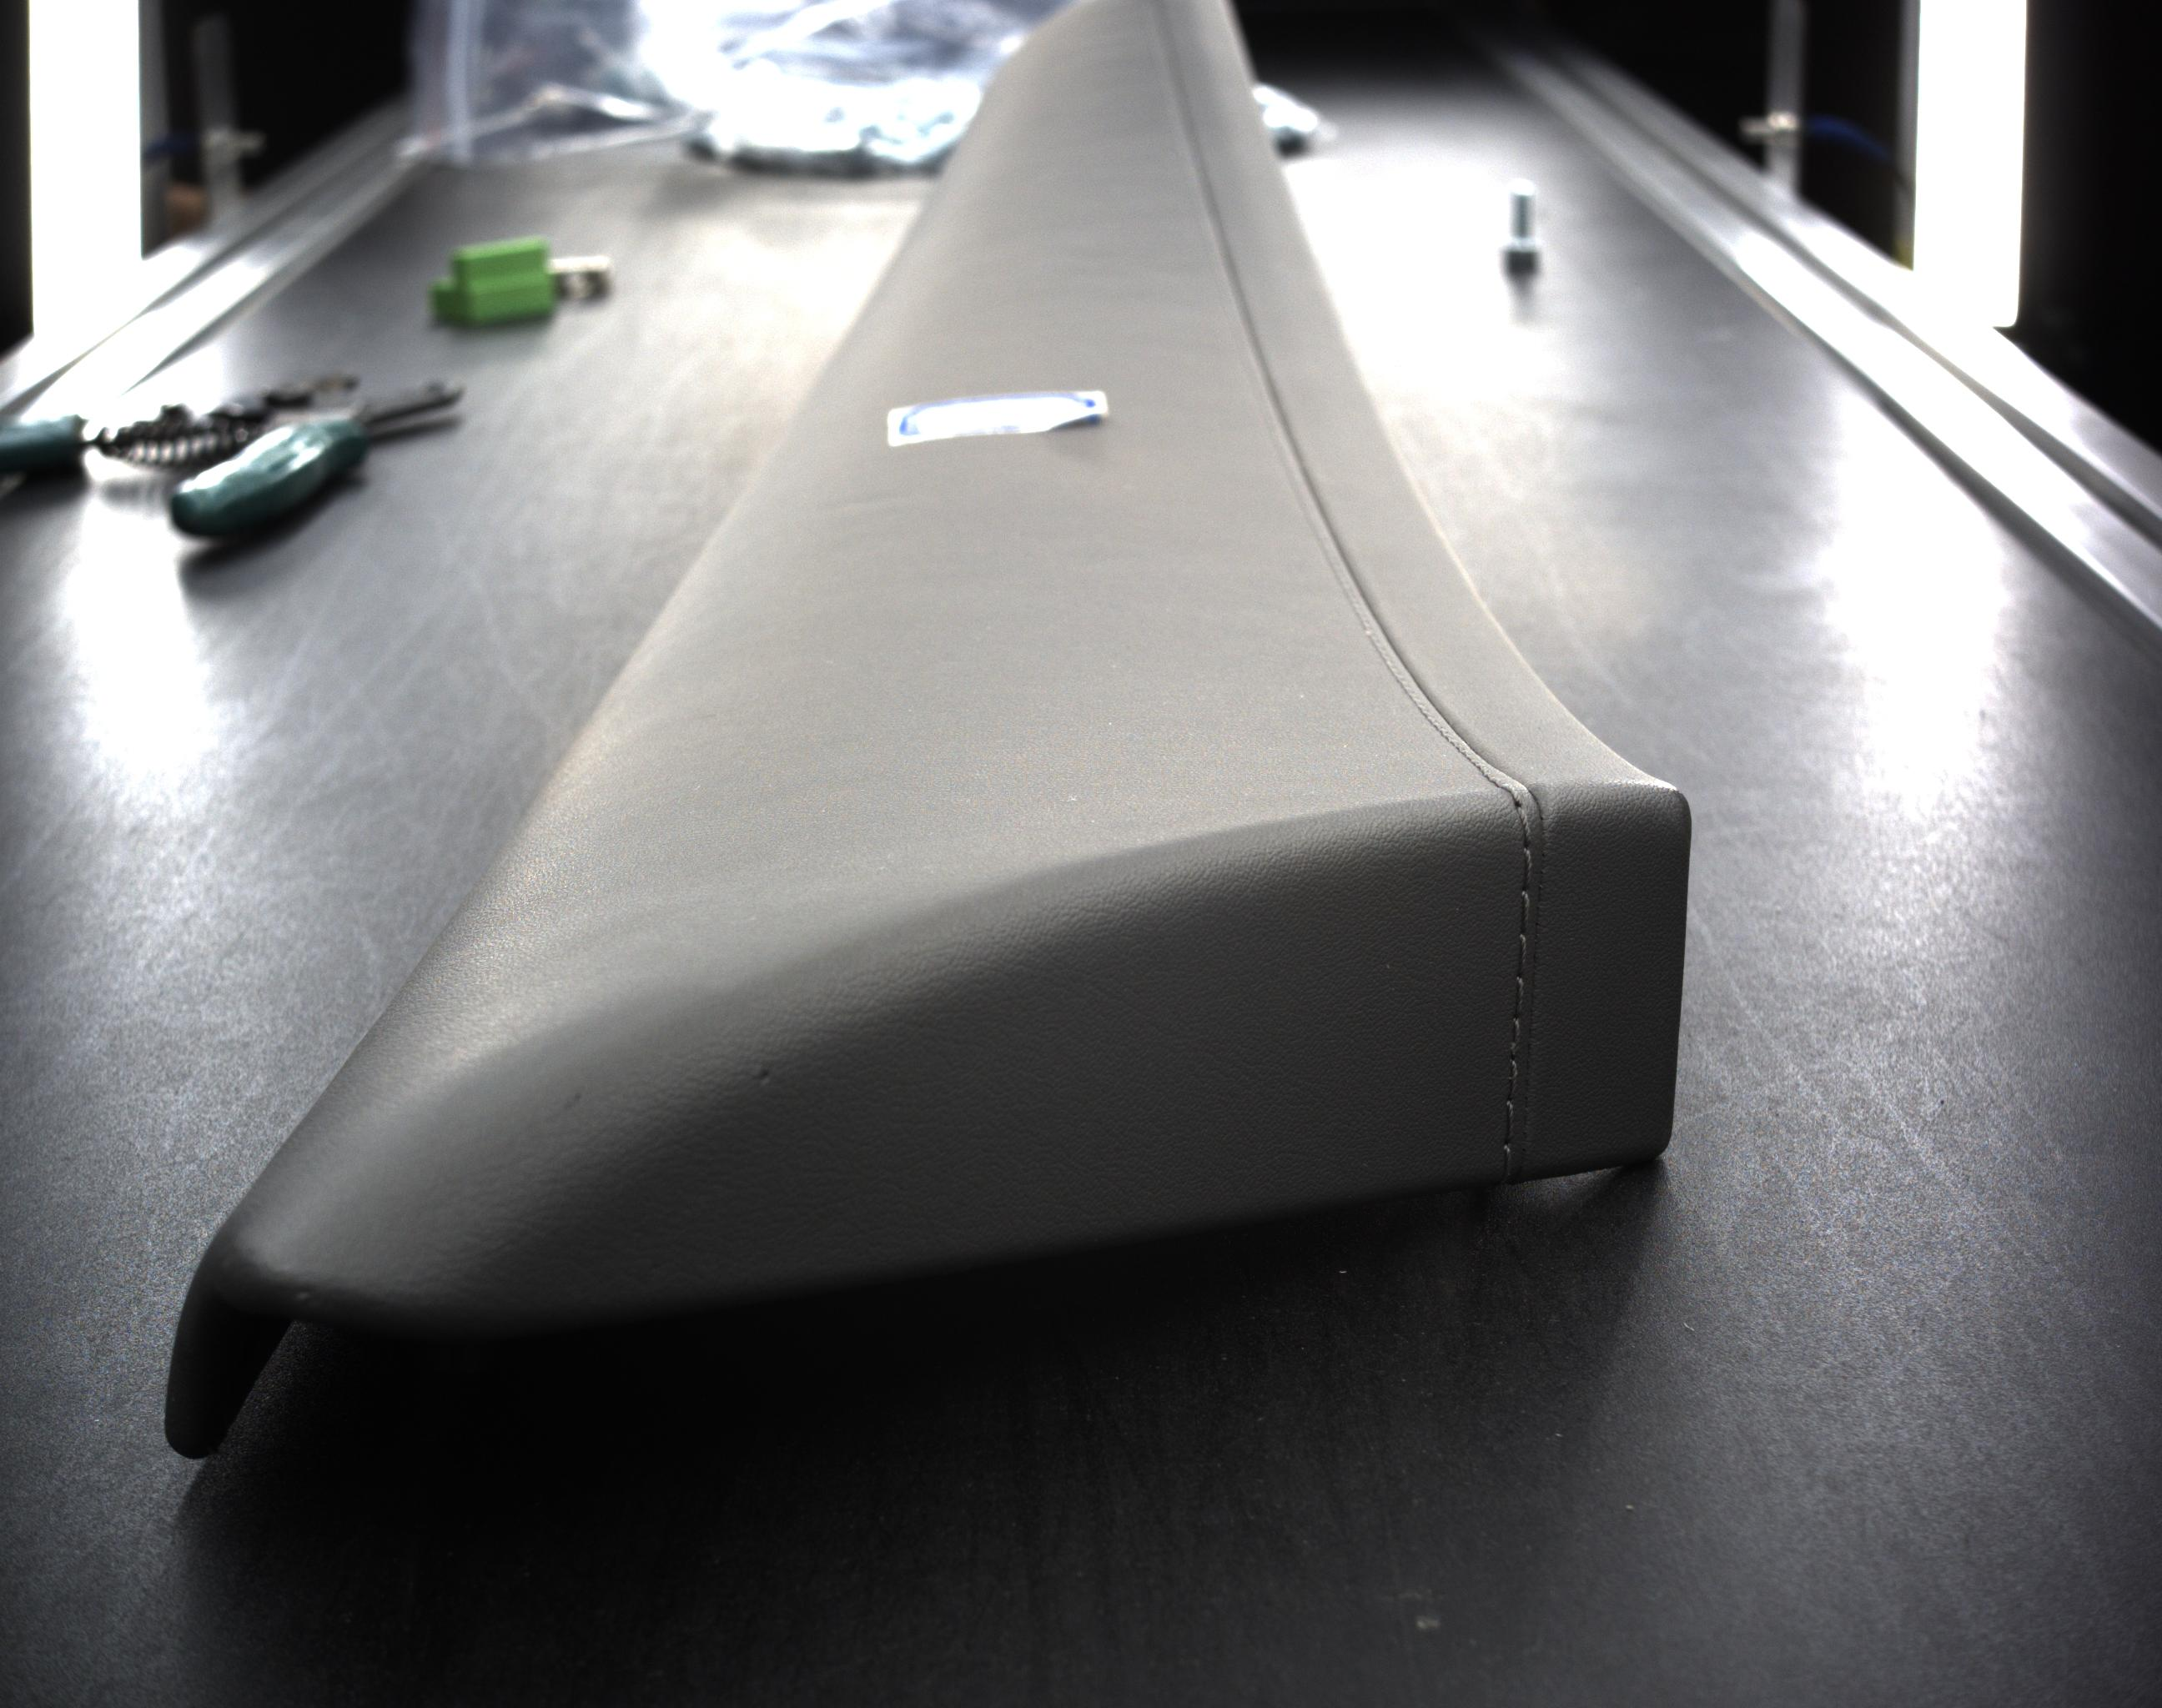vline: (1507, 1060, 1520, 1102), (1520, 892, 1532, 930), (1516, 934, 1527, 974), (1504, 1102, 1514, 1141), (1502, 1146, 1514, 1178), (1513, 980, 1523, 1015), (1523, 848, 1532, 888), (1511, 1020, 1520, 1053)
